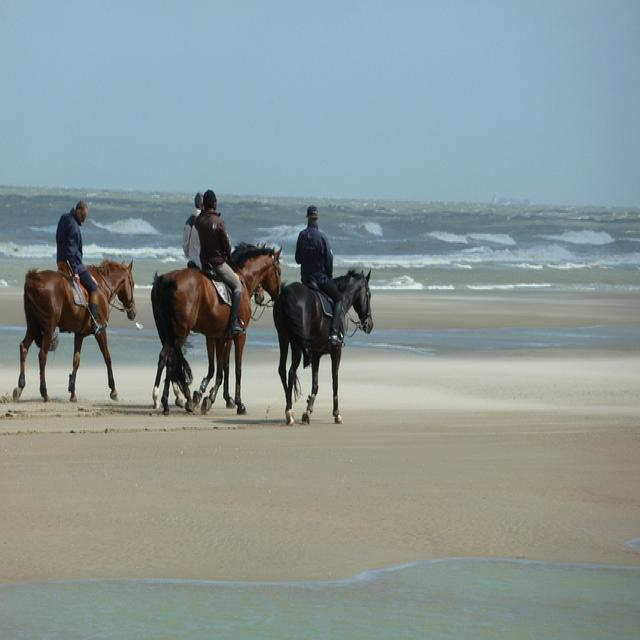horse: (151, 239, 285, 415), (13, 259, 136, 404), (273, 267, 374, 426)
person: (194, 189, 246, 341), (295, 206, 344, 346), (57, 195, 103, 321), (184, 193, 204, 260)
